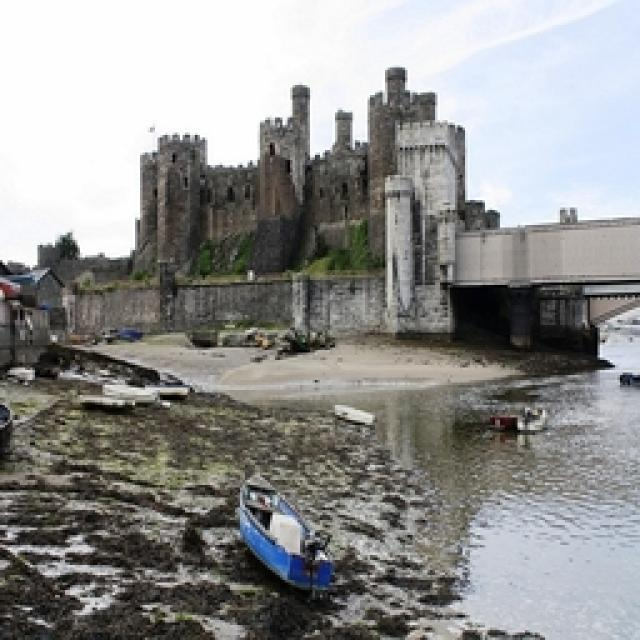Abbey: (129, 61, 481, 339)
